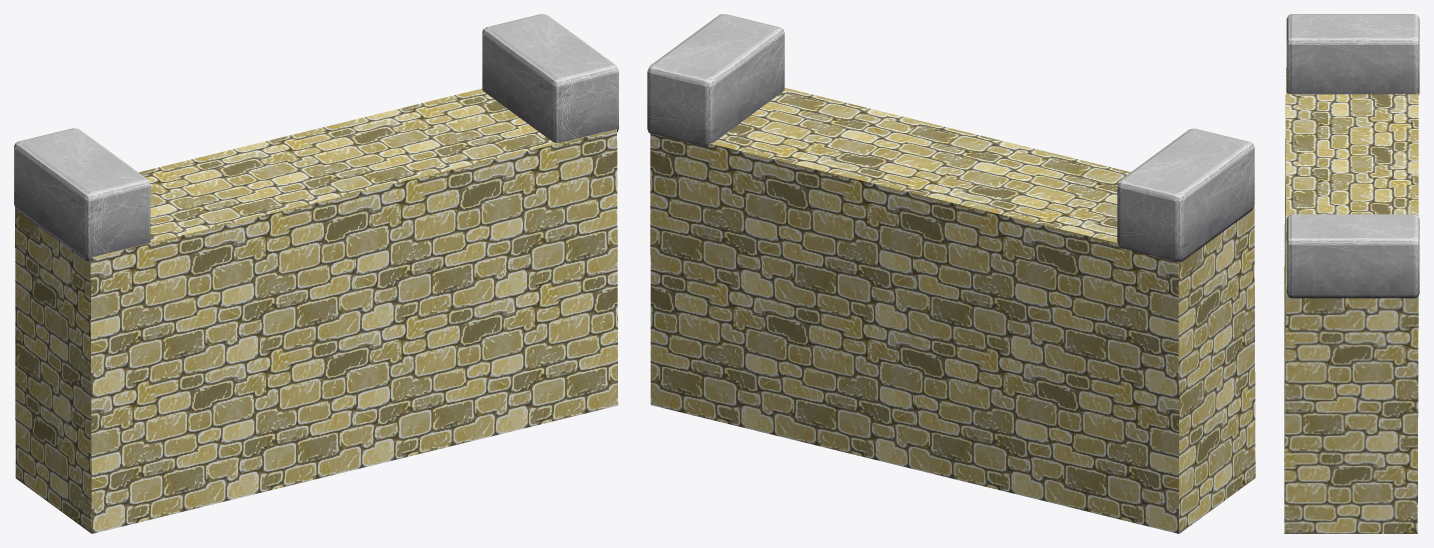
Rendered from Puente_P_Base.fbx.
3 views of the same model, side by side, from view 1: azimuth 30°, elevation 25°; view 2: azimuth 150°, elevation 25°; view 3: azimuth 270°, elevation 25° (orthographic). The views are drawn at different scales.
Visible parts, largest first — view 1: Puente_P_Base_LOD0; view 2: Puente_P_Base_LOD0; view 3: Puente_P_Base_LOD0.
Boxes of the visible parts, box(x1,y1,x2,y2) form: Puente_P_Base_LOD0: box(14, 14, 618, 533); Puente_P_Base_LOD0: box(647, 14, 1255, 533); Puente_P_Base_LOD0: box(1284, 14, 1419, 533).
Size of what is drawn, in the model's own units: 406 by 245 by 102.
